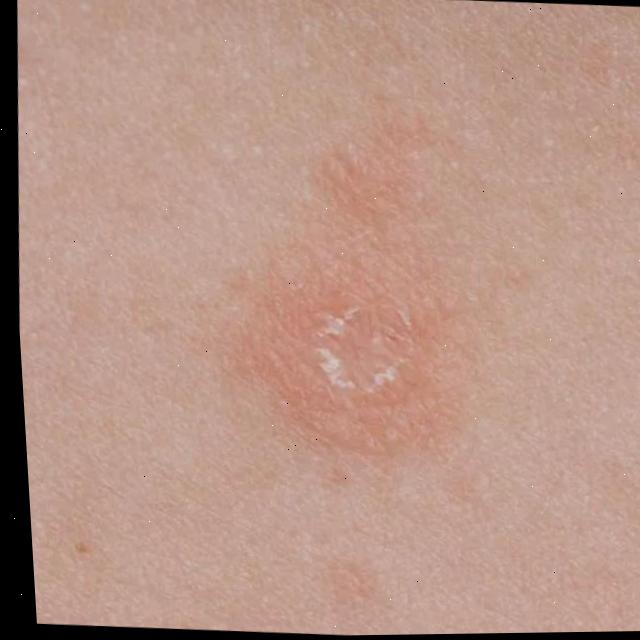Rosacea: (214, 91, 493, 468)
